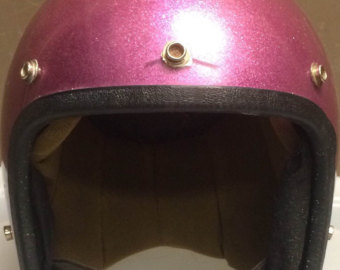with_helmet: (1, 1, 340, 269)
